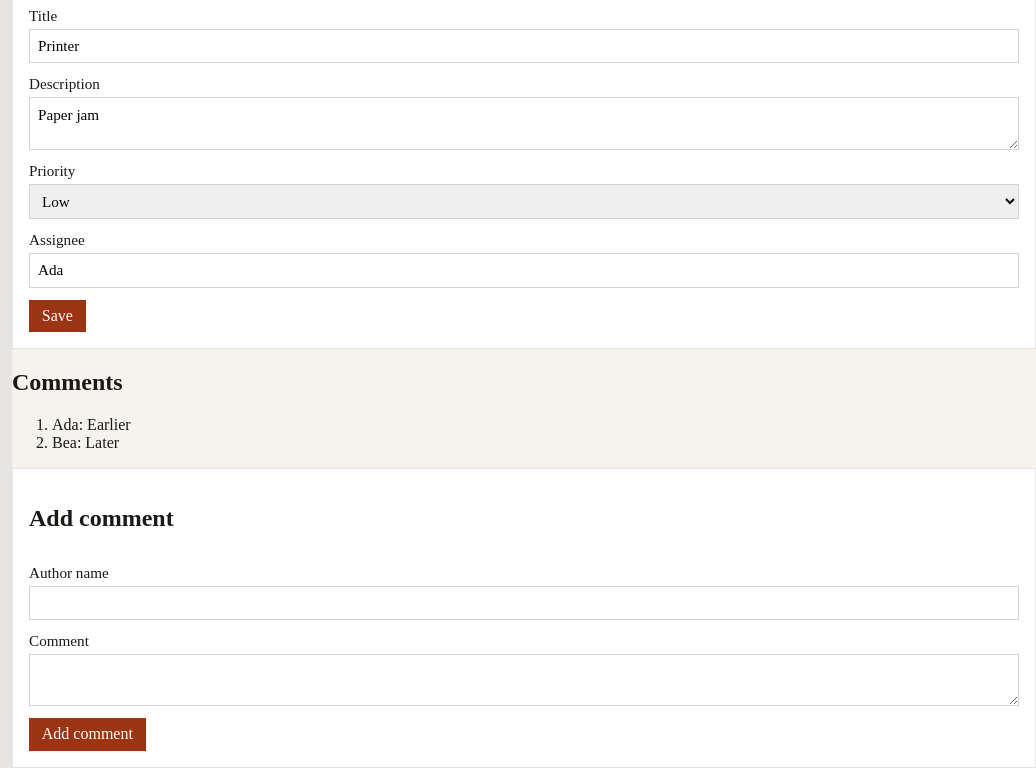
Test: TicketDetail › reloads the ticket after a comment so Updated moves forward
(page scrolled)
In the field labelled "Author name": point(524, 603) [29,586,1019,620], type "Bea"
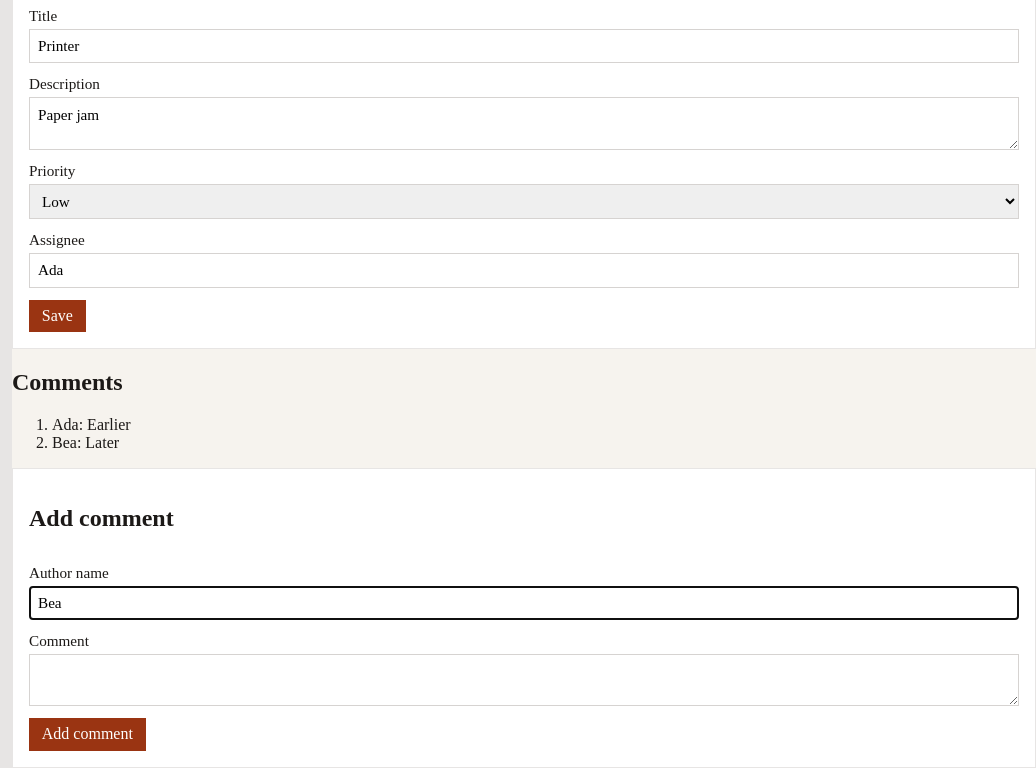
In the text box labelled "Comment": point(524, 680) [29,654,1019,706], type "New note"
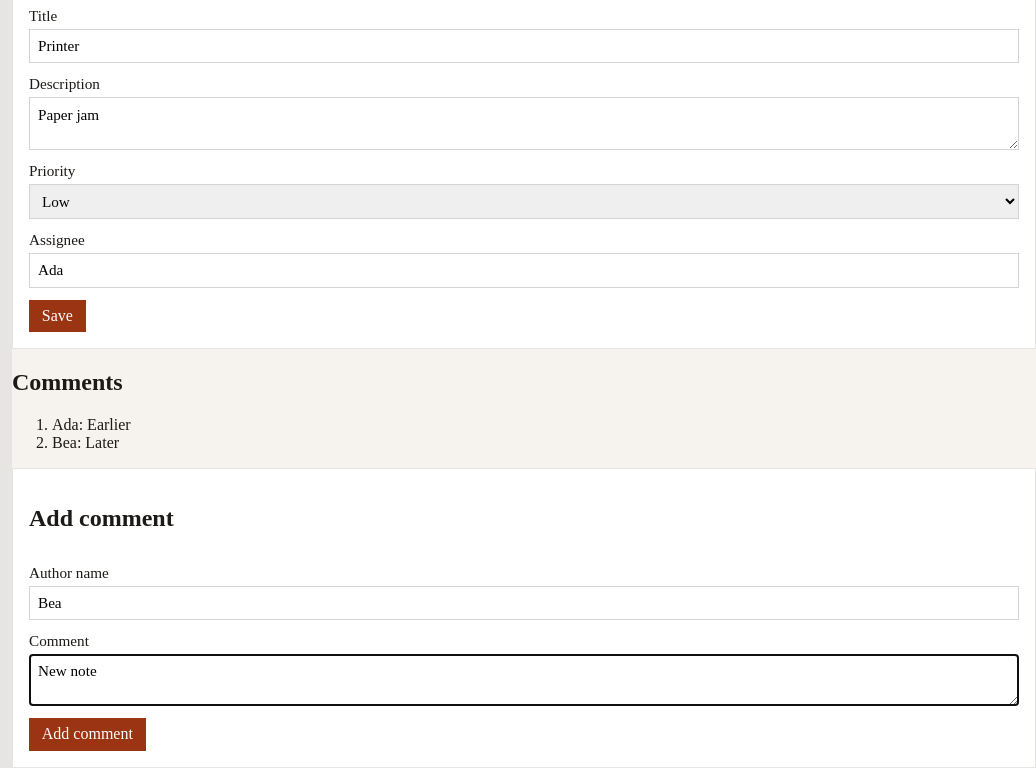
Click the button "Add comment": point(87, 734) [29,718,146,751]
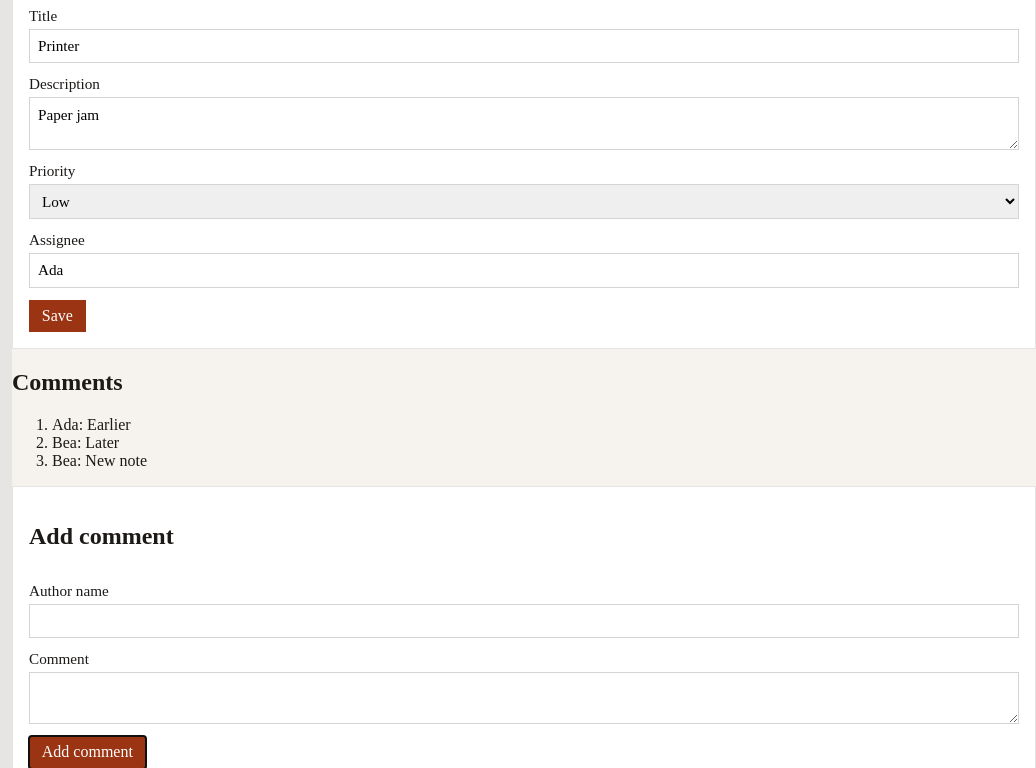
Check: the list item "Bea: New note" is shown, box [52,452,147,469]
